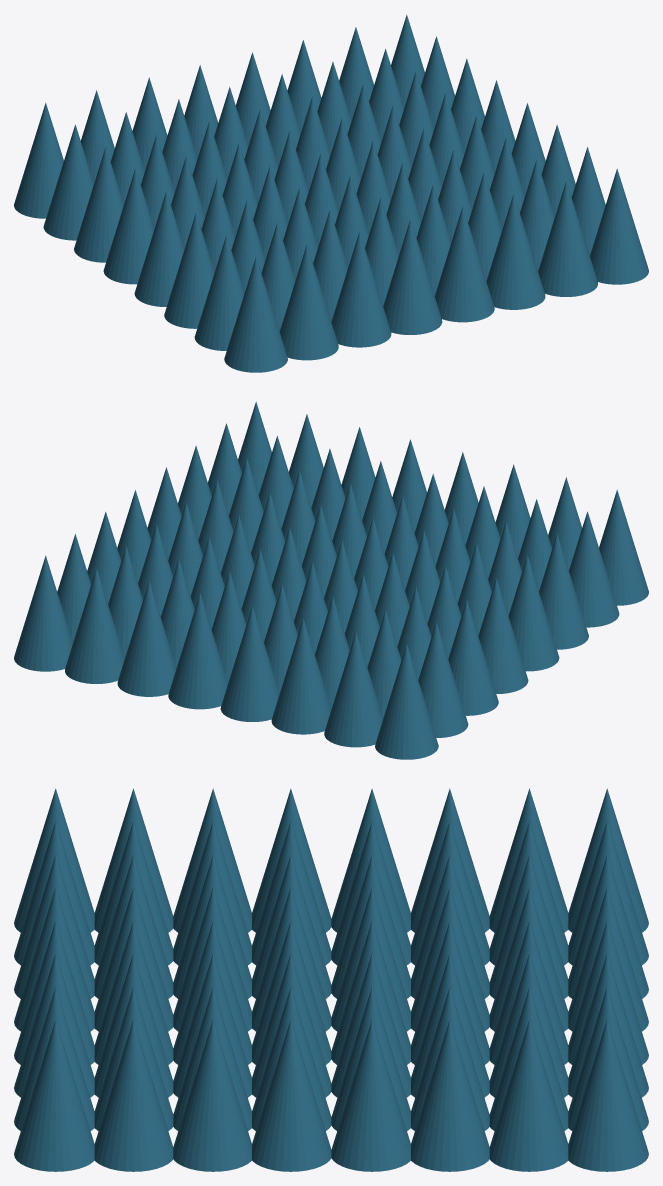
Rendered from SpikePadSpikes.fbx.
3 views of the same model, one above another, from view 1: azimuth 30°, elevation 25°; view 2: azimuth 150°, elevation 25°; view 3: azimuth 270°, elevation 25° (orthographic). The views are drawn at different scales.
Parts seen in each view (by area): view 1: Cone; view 2: Cone; view 3: Cone.
Boxes of the visible parts, x1,y1,x2,y2 form: Cone: [14, 14, 648, 372]; Cone: [14, 401, 648, 759]; Cone: [14, 788, 648, 1171].
Size of the model in its own units: 169 by 39.93 by 170.
